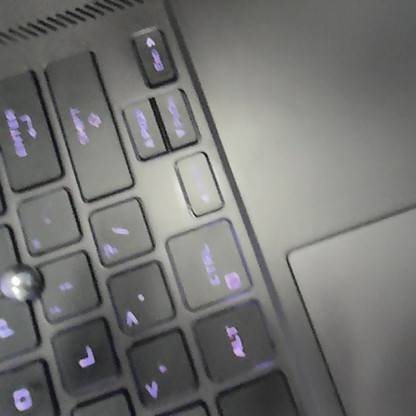ironball: (0, 259, 47, 306)
